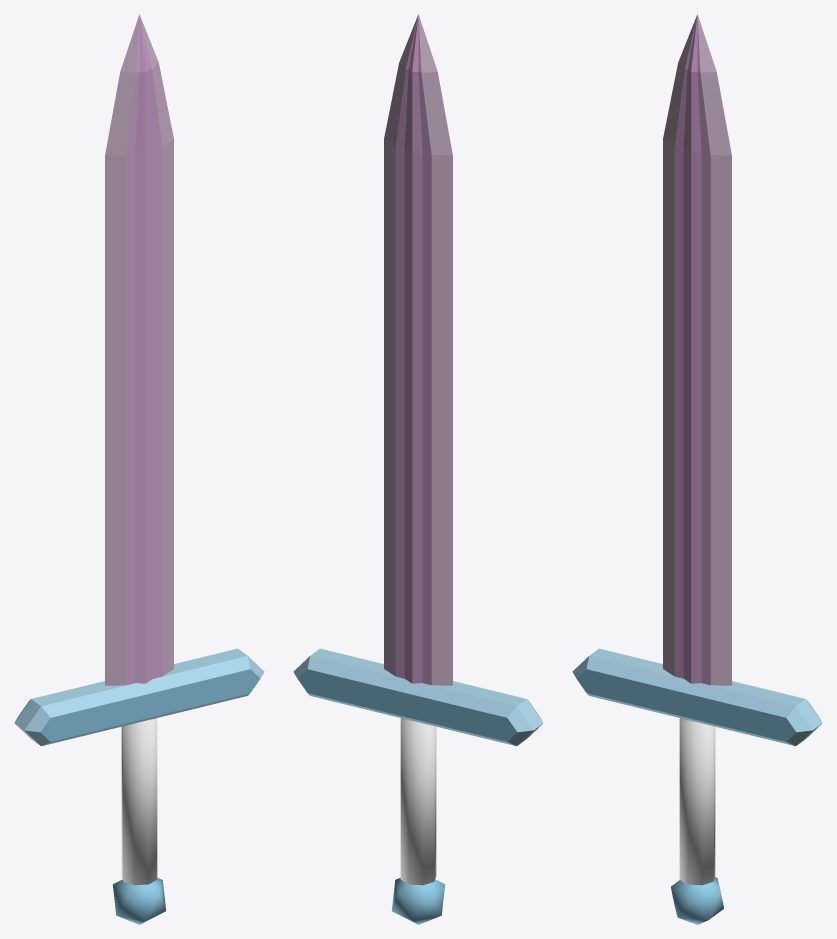
Rendered from terraprisma.glb.
3 renders of one model, left to right at view 1: azimuth 30°, elevation 25°; view 2: azimuth 150°, elevation 25°; view 3: azimuth 330°, elevation 25°, orthographic.
Parts seen in each view (by area): view 1: terraprisma_v0; view 2: terraprisma_v0; view 3: terraprisma_v0.
Part boxes in pixels (x1,y1,x2,y2): terraprisma_v0: (14, 14, 264, 924); terraprisma_v0: (293, 14, 543, 924); terraprisma_v0: (572, 14, 822, 924).
Size of the model in its own units: 0.314 by 1.14 by 0.0578.
